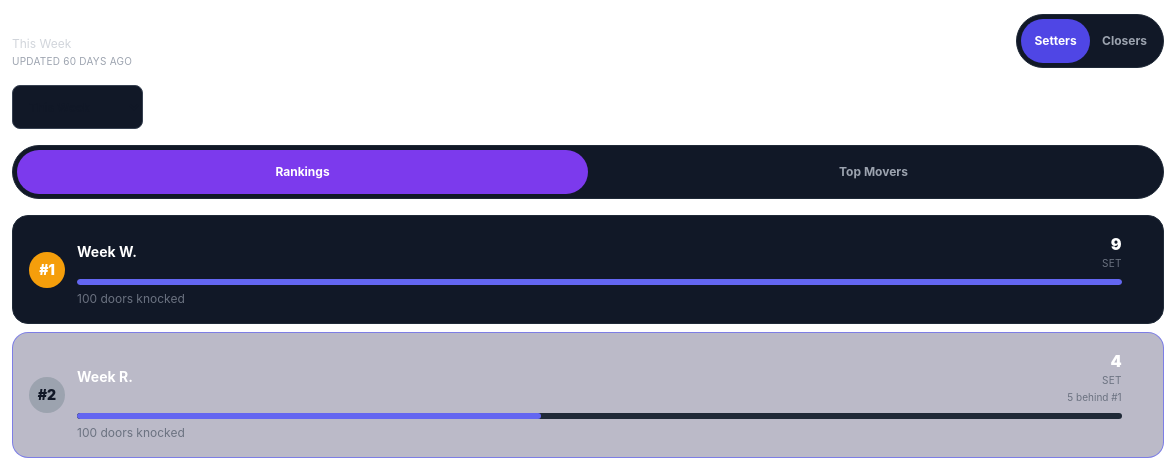
Test: Sisu leaderboard date filter › refetches with ?timeframe= and swaps in the new rankings
Select "Last Month" in the dropdown named "Leaderboard time period". click: point(78, 107)
box: [12,85,143,129]
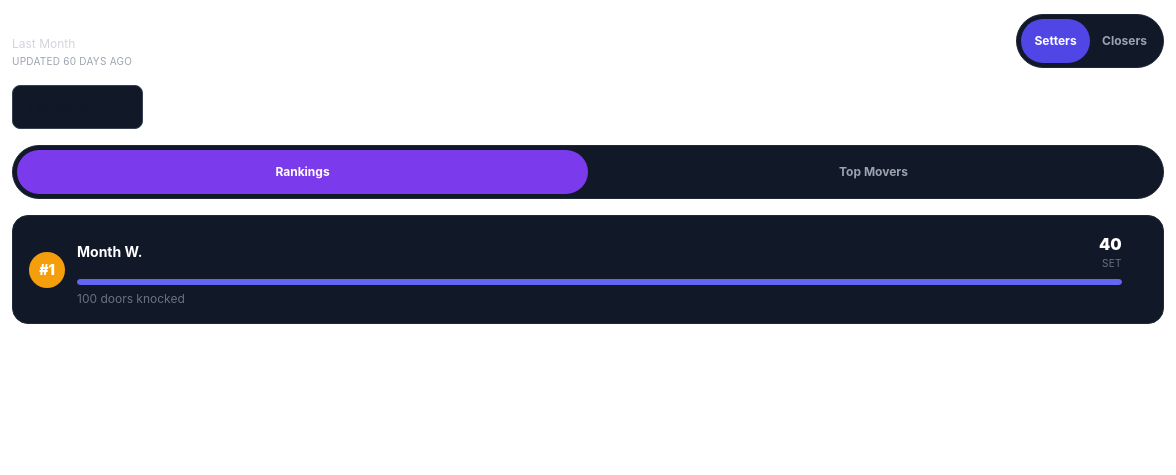
Expected: the text "Month W." is shown, [77,242,142,262]
Expected: the button "Week W." is gone
